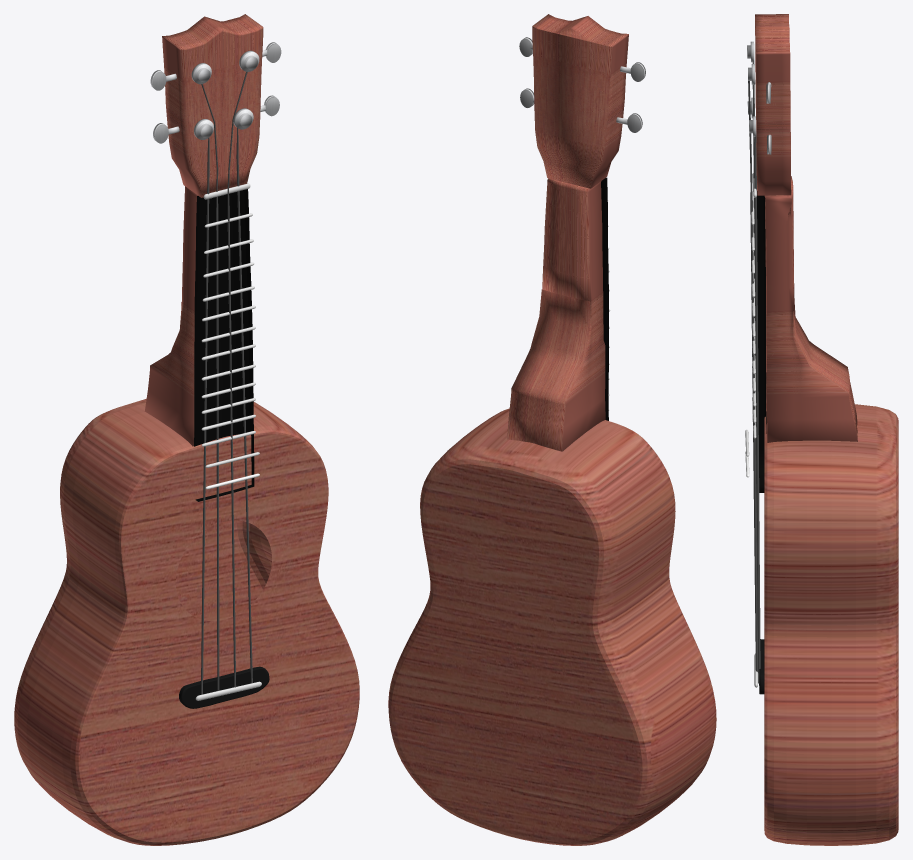
File: ukelele.glb
3 views of the same model, side by side, from view 1: azimuth 30°, elevation 25°; view 2: azimuth 150°, elevation 25°; view 3: azimuth 270°, elevation 25° (orthographic). The views are drawn at different scales.
Parts seen in each view (by area): view 1: object 38, copa mastil1_20, mastil2_31, mastil_30, cuadrito_21, cuerda larga.003_25, cuerda larga.002_24, cuerda larga.001_23, cuerda larga_22; view 2: object 38, mastil_30, copa mastil1_20, mastil2_31; view 3: object 38, mastil_30, copa mastil1_20, mastil2_31, cuerda larga_22, cuerda larga.003_25, cuerda larga.002_24.
Boxes of the visible parts, x1=… form: object 38: x1=14, y1=398, x2=359, y2=845; copa mastil1_20: x1=162, y1=14, x2=263, y2=197; mastil2_31: x1=194, y1=189, x2=254, y2=501; mastil_30: x1=144, y1=186, x2=197, y2=446; cuadrito_21: x1=179, y1=666, x2=269, y2=708; cuerda larga.003_25: x1=227, y1=71, x2=247, y2=687; cuerda larga.002_24: x1=201, y1=84, x2=219, y2=690; cuerda larga.001_23: x1=201, y1=138, x2=209, y2=694; cuerda larga_22: x1=236, y1=128, x2=252, y2=683; object 38: x1=388, y1=408, x2=716, y2=845; mastil_30: x1=507, y1=178, x2=605, y2=451; copa mastil1_20: x1=532, y1=14, x2=628, y2=188; mastil2_31: x1=601, y1=177, x2=608, y2=420; object 38: x1=764, y1=404, x2=898, y2=845; mastil_30: x1=764, y1=176, x2=857, y2=442; copa mastil1_20: x1=755, y1=14, x2=791, y2=195; mastil2_31: x1=757, y1=191, x2=766, y2=492; cuerda larga_22: x1=754, y1=131, x2=760, y2=683; cuerda larga.003_25: x1=748, y1=81, x2=757, y2=671; cuerda larga.002_24: x1=752, y1=62, x2=757, y2=599.
Bounding box in the file's own units: 14.98 × 40.35 × 7.07.
Materials: 37 (14 with a texture image).
